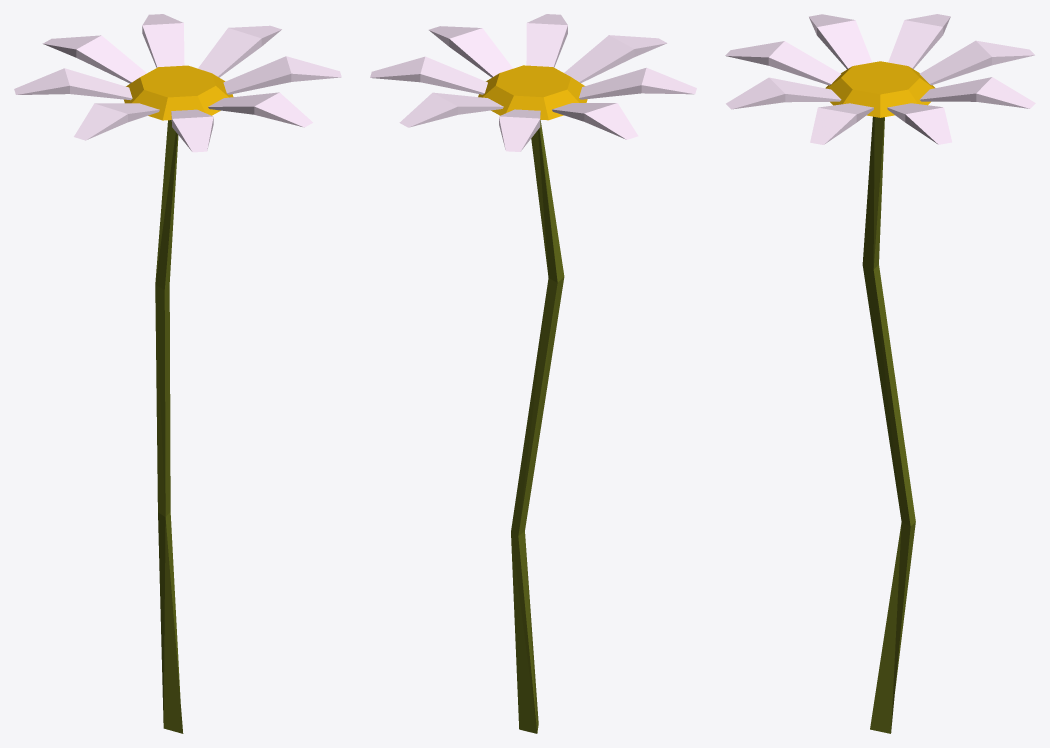
Rendered from Flower 4_1.fbx.
3 views of the same model, side by side, from view 1: azimuth 30°, elevation 25°; view 2: azimuth 150°, elevation 25°; view 3: azimuth 270°, elevation 25° (orthographic).
Visible parts, largest first — view 1: Flower 4_1; view 2: Flower 4_1; view 3: Flower 4_1.
Part boxes in pixels (left/top/right/bottom): Flower 4_1: left=14, top=14, right=341, bottom=733; Flower 4_1: left=370, top=14, right=696, bottom=733; Flower 4_1: left=725, top=14, right=1035, bottom=733.
Bounding box in the file's own units: 0.1294 × 0.3047 × 0.1297.
